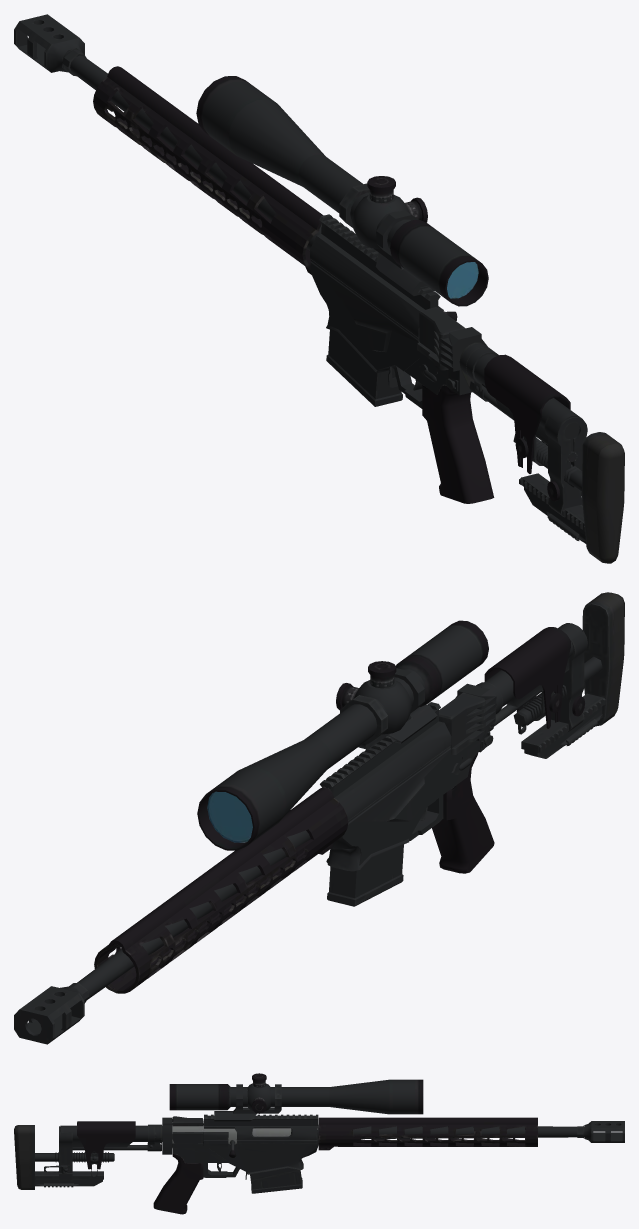
The model's file is sniper.glb.
3 renders of one model, top to bottom at view 1: azimuth 30°, elevation 25°; view 2: azimuth 150°, elevation 25°; view 3: azimuth 270°, elevation 25°, orthographic. The views are drawn at different scales.
Visible parts, largest first — view 1: LPAimMain_LowPoly_06, LPCooler_LowPoly_05, LPBody_LowPoly_07, LPHandle_LowPoly_05, LPButtRubber_LowPoly_05, LPRuggerButt_LowPoly_06, LPmuzzlebrake_LowPoly_05, LPButtMiddle_LowPoly_05, LPmagazine_LowPoly_06, LPbarrel_LowPoly_08, LPAimConnector_LowPoly_05, PicatinnyRail_LowPoly_06LP (+4 smaller); view 2: LPAimMain_LowPoly_06, LPCooler_LowPoly_05, LPBody_LowPoly_07, LPButtRubber_LowPoly_05, LPHandle_LowPoly_05, LPRuggerButt_LowPoly_06, LPmuzzlebrake_LowPoly_05, LPbarrel_LowPoly_08, LPmagazine_LowPoly_06, LPAimConnector_LowPoly_05, PicatinnyRail_LowPoly_06LP, LPconnectorBody_LowPoly_05 (+6 smaller); view 3: LPAimMain_LowPoly_06, LPCooler_LowPoly_05, LPBody_LowPoly_07, LPHandle_LowPoly_05, LPRuggerButt_LowPoly_06, LPbarrel_LowPoly_08, LPButtRubber_LowPoly_05, LPmagazine_LowPoly_06, PicatinnyRail_LowPoly_06LP, LPAimConnector_LowPoly_05, LPGate_LowPoly_08, LPmuzzlebrake_LowPoly_05 (+7 smaller).
Boxes of the visible parts, bbox=[...] form: LPAimMain_LowPoly_06: bbox=[196, 76, 488, 306]; LPCooler_LowPoly_05: bbox=[93, 66, 323, 274]; LPBody_LowPoly_07: bbox=[310, 234, 448, 408]; LPHandle_LowPoly_05: bbox=[422, 384, 494, 503]; LPButtRubber_LowPoly_05: bbox=[582, 432, 624, 563]; LPRuggerButt_LowPoly_06: bbox=[484, 354, 570, 473]; LPmuzzlebrake_LowPoly_05: bbox=[14, 14, 84, 72]; LPButtMiddle_LowPoly_05: bbox=[544, 416, 587, 517]; LPmagazine_LowPoly_06: bbox=[326, 330, 402, 406]; LPbarrel_LowPoly_08: bbox=[70, 56, 321, 250]; LPAimConnector_LowPoly_05: bbox=[339, 183, 434, 295]; PicatinnyRail_LowPoly_06LP: bbox=[319, 214, 440, 309]; LPAimMain_LowPoly_06: bbox=[197, 620, 488, 850]; LPCooler_LowPoly_05: bbox=[94, 787, 348, 993]; LPBody_LowPoly_07: bbox=[326, 721, 480, 871]; LPButtRubber_LowPoly_05: bbox=[582, 592, 624, 726]; LPHandle_LowPoly_05: bbox=[432, 752, 494, 873]; LPRuggerButt_LowPoly_06: bbox=[484, 627, 570, 728]; LPmuzzlebrake_LowPoly_05: bbox=[14, 986, 84, 1044]; LPbarrel_LowPoly_08: bbox=[70, 830, 310, 1009]; LPmagazine_LowPoly_06: bbox=[327, 844, 403, 906]; LPAimConnector_LowPoly_05: bbox=[340, 668, 437, 749]; PicatinnyRail_LowPoly_06LP: bbox=[320, 702, 440, 797]; LPconnectorBody_LowPoly_05: bbox=[439, 692, 485, 754]; LPAimMain_LowPoly_06: bbox=[169, 1079, 423, 1114]; LPCooler_LowPoly_05: bbox=[318, 1117, 537, 1150]; LPBody_LowPoly_07: bbox=[172, 1123, 318, 1177]; LPHandle_LowPoly_05: bbox=[153, 1153, 203, 1214]; LPRuggerButt_LowPoly_06: bbox=[77, 1121, 135, 1169]; LPbarrel_LowPoly_08: bbox=[317, 1125, 584, 1138]; LPButtRubber_LowPoly_05: bbox=[14, 1125, 34, 1189]; LPmagazine_LowPoly_06: bbox=[250, 1168, 302, 1193]; PicatinnyRail_LowPoly_06LP: bbox=[204, 1114, 318, 1125]; LPAimConnector_LowPoly_05: bbox=[214, 1084, 281, 1121]; LPGate_LowPoly_08: bbox=[172, 1125, 291, 1157]; LPmuzzlebrake_LowPoly_05: bbox=[584, 1121, 624, 1142].
Bounding box in the file's own units: 2.52 × 7.9 × 32.47.
Materials: 1 (1 with a texture image).
